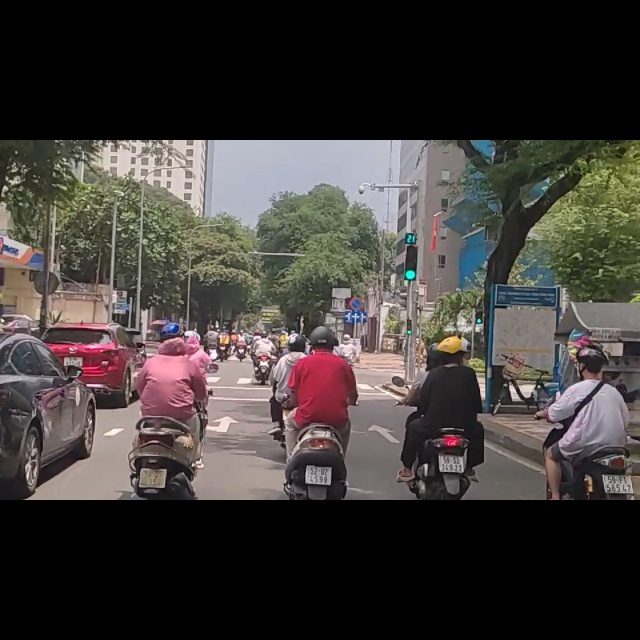bien_chi_dan: (348, 279, 364, 305)
